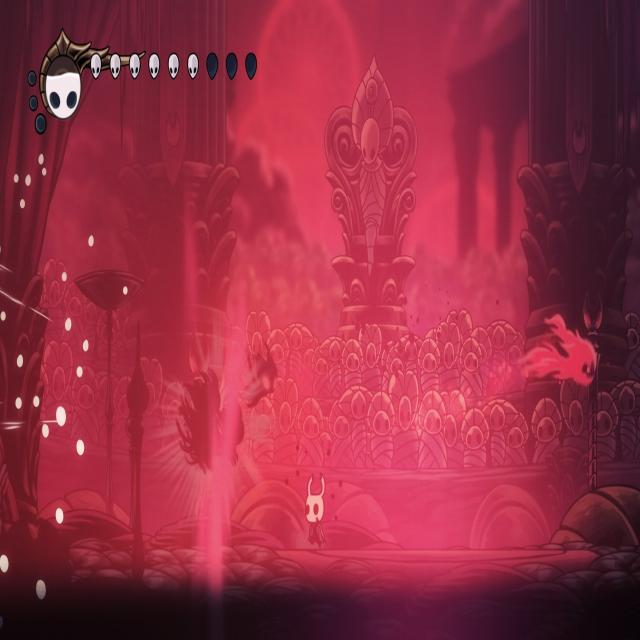Fire Bat: (526, 314, 598, 391)
Player: (302, 465, 328, 550)
